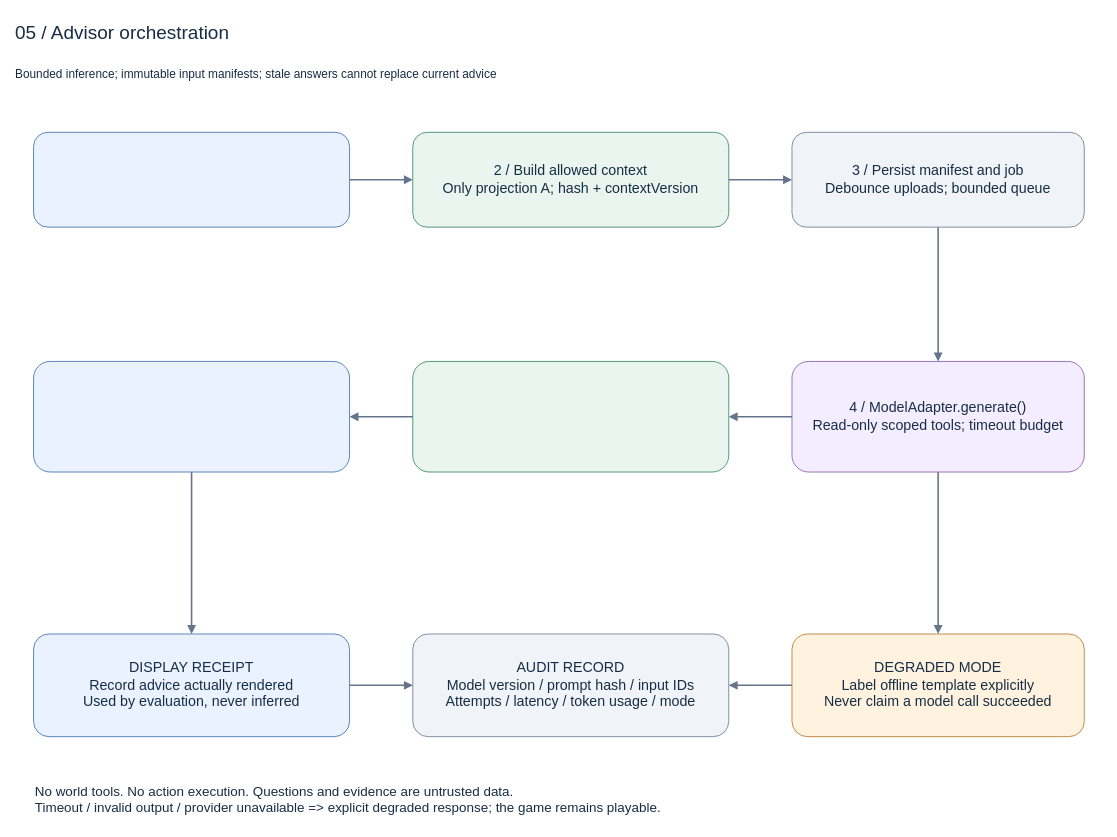
This 1117x837 diagram has some shape labels left out. Here are the shapes that lost their labels. From the top down, the centre of each, then its label:
pixel 191 179: 1 / Trigger Scene entry, upload, explicit question
pixel 191 416: 6 / Compare epoch + context version Publish current result or mark superseded
pixel 570 416: 5 / Validate schema + references Check citations, action IDs and claims
